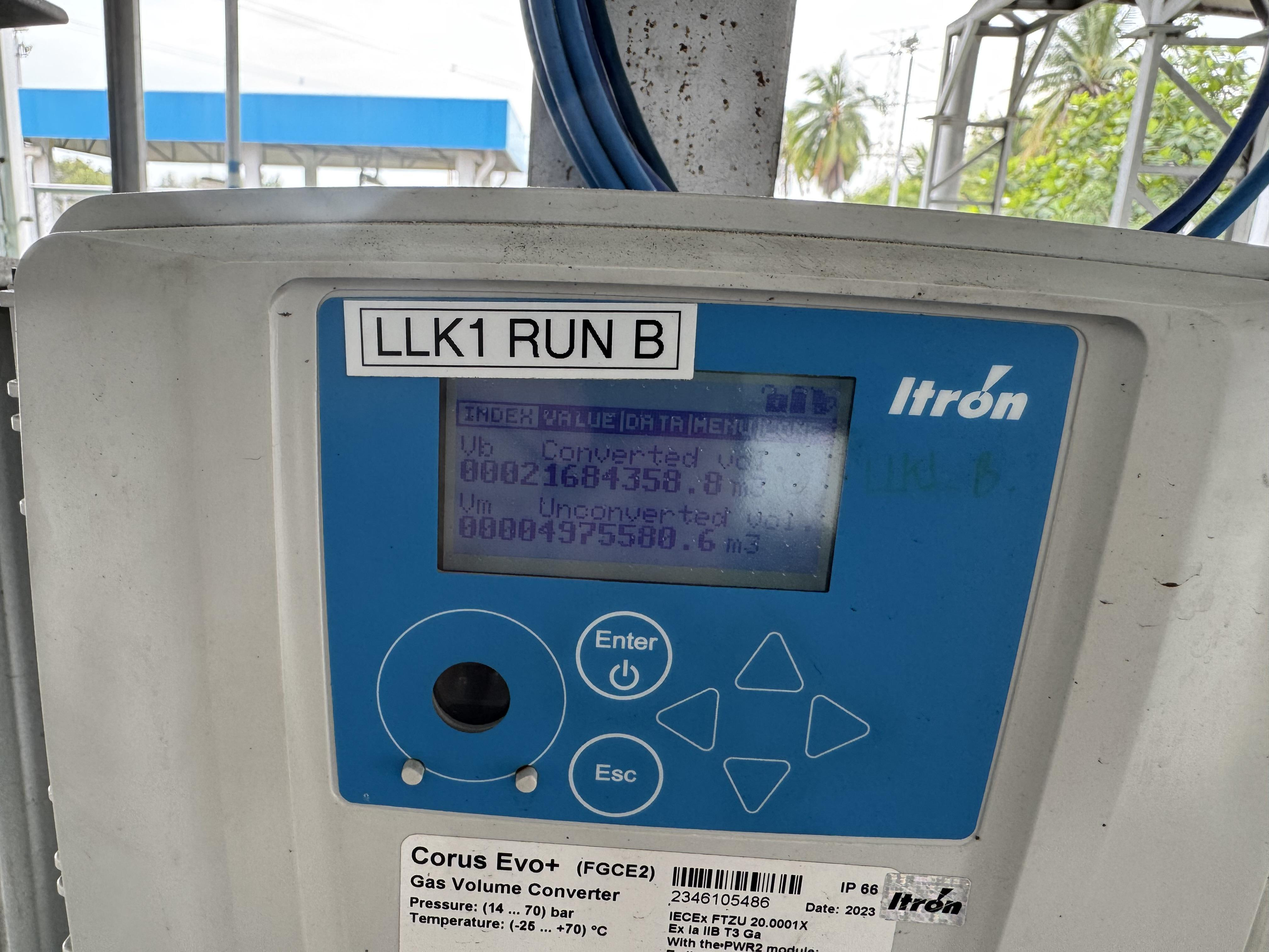digital_screen: (428, 354, 855, 593)
